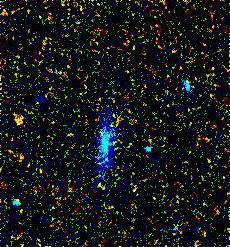star: (7, 110, 37, 140)
